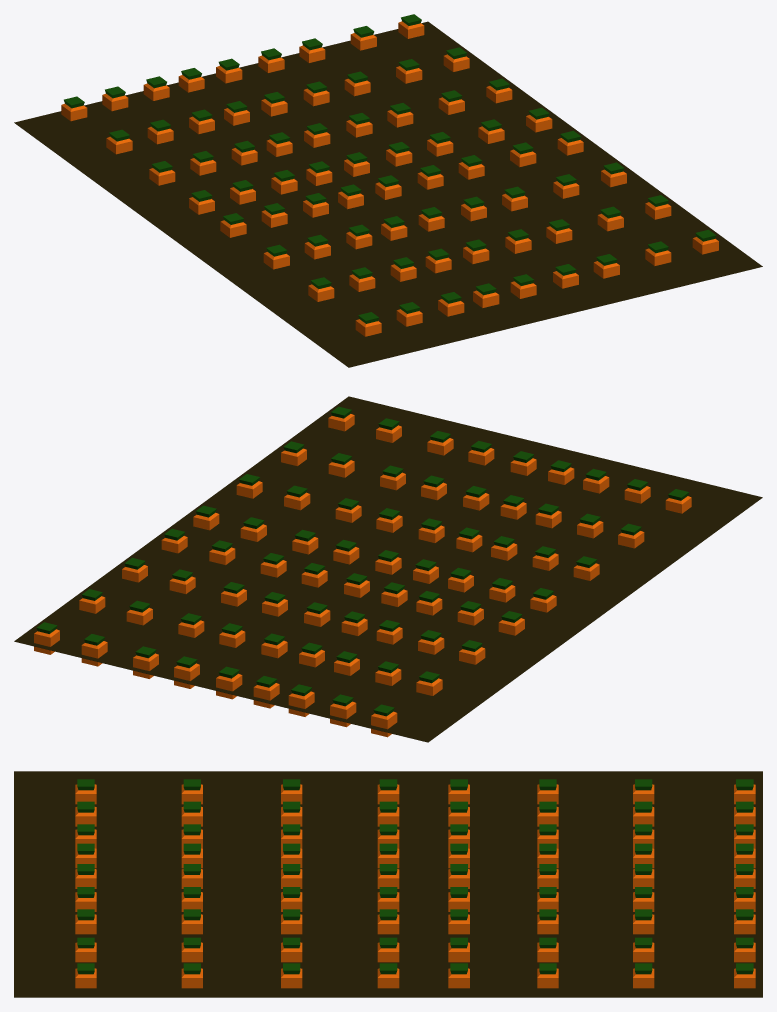
The model's file is farm.fbx.
The picture shows the model from 3 angles, top to bottom: view 1: azimuth 30°, elevation 25°; view 2: azimuth 150°, elevation 25°; view 3: azimuth 270°, elevation 25°; orthographic projection. The views are drawn at different scales.
Visible parts, largest first — view 1: Cube; view 2: Cube, Cube.062, Cube.071, Cube.063, Cube.061, Cube.065, Cube.064, Cube.072, Cube.070, Cube.069; view 3: Cube, Cube.012, Cube.010, Cube.011, Cube.021, Cube.019, Cube.042, Cube.040, Cube.072, Cube.070, Cube.132, Cube.130 (+61 smaller).
Part boxes in pixels (x1,y1,x2,y2): Cube: (14, 21, 762, 367); Cube: (14, 396, 762, 742); Cube.062: (253, 676, 279, 708); Cube.071: (81, 634, 107, 666); Cube.063: (288, 684, 314, 716); Cube.061: (216, 666, 242, 699); Cube.065: (371, 704, 397, 737); Cube.064: (330, 694, 356, 727); Cube.072: (34, 622, 59, 654); Cube.070: (133, 646, 158, 678); Cube.069: (174, 656, 199, 688); Cube: (14, 771, 762, 997); Cube.012: (377, 963, 399, 988); Cube.010: (377, 909, 399, 934); Cube.011: (377, 937, 399, 962); Cube.021: (448, 909, 469, 934); Cube.019: (448, 963, 469, 988); Cube.042: (537, 963, 558, 988); Cube.040: (537, 909, 558, 934); Cube.072: (734, 963, 755, 988); Cube.070: (734, 909, 755, 934); Cube.132: (75, 963, 96, 988); Cube.130: (75, 909, 96, 934).
Bounding box in the file's own units: 500 × 26.42 × 700.
